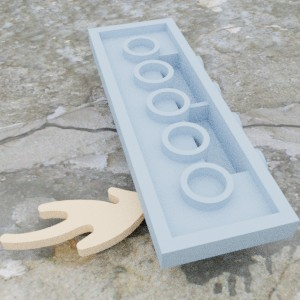lego: (87, 17, 299, 269), (0, 179, 232, 256)
